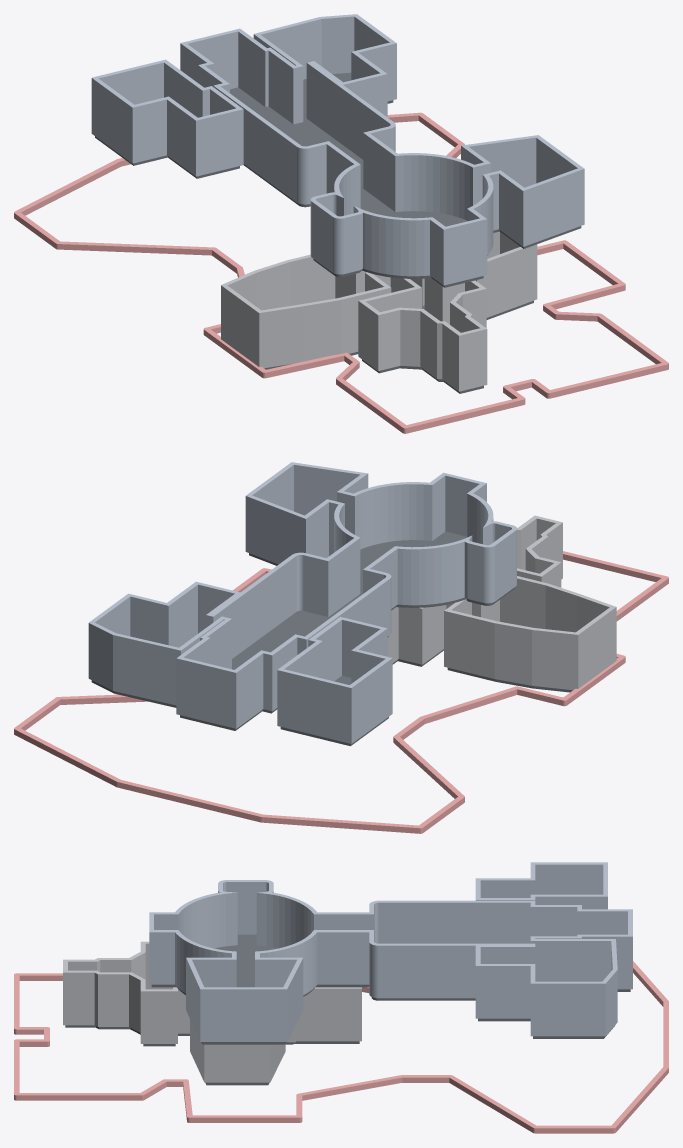
The model's file is defender_graybox_WIP_NOT_APPROVED.glb.
3 views of the same model, one above another, from view 1: azimuth 30°, elevation 25°; view 2: azimuth 150°, elevation 25°; view 3: azimuth 270°, elevation 25° (orthographic). The views are drawn at different scales.
Visible parts, largest first — view 1: flight_walls, lower_walls, hull_outline, flight_floor; view 2: flight_walls, lower_walls, hull_outline, flight_floor; view 3: flight_walls, lower_walls, hull_outline, flight_floor, lower_floor.
Boxes of the visible parts, x1,y1,x2,y2 form: flight_walls: (91, 14, 584, 285); lower_walls: (221, 231, 537, 391); hull_outline: (14, 112, 668, 433); flight_floor: (95, 72, 581, 287); flight_walls: (88, 462, 516, 743); lower_walls: (387, 515, 616, 690); hull_outline: (14, 551, 668, 833); flight_floor: (91, 531, 514, 746); flight_walls: (149, 862, 632, 1041); lower_walls: (63, 941, 361, 1082); hull_outline: (14, 961, 668, 1133); flight_floor: (151, 934, 630, 1044); lower_floor: (65, 1025, 359, 1085).
Bounding box in the file's own units: 22.95 × 6.7 × 33.85.
